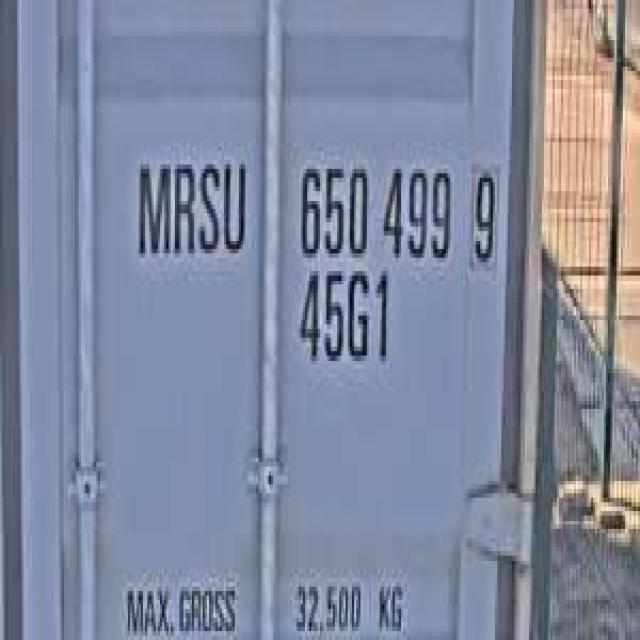dv: (465, 156, 501, 271)
owner: (130, 138, 250, 271)
serial: (290, 147, 455, 271)
size: (292, 262, 395, 374)
